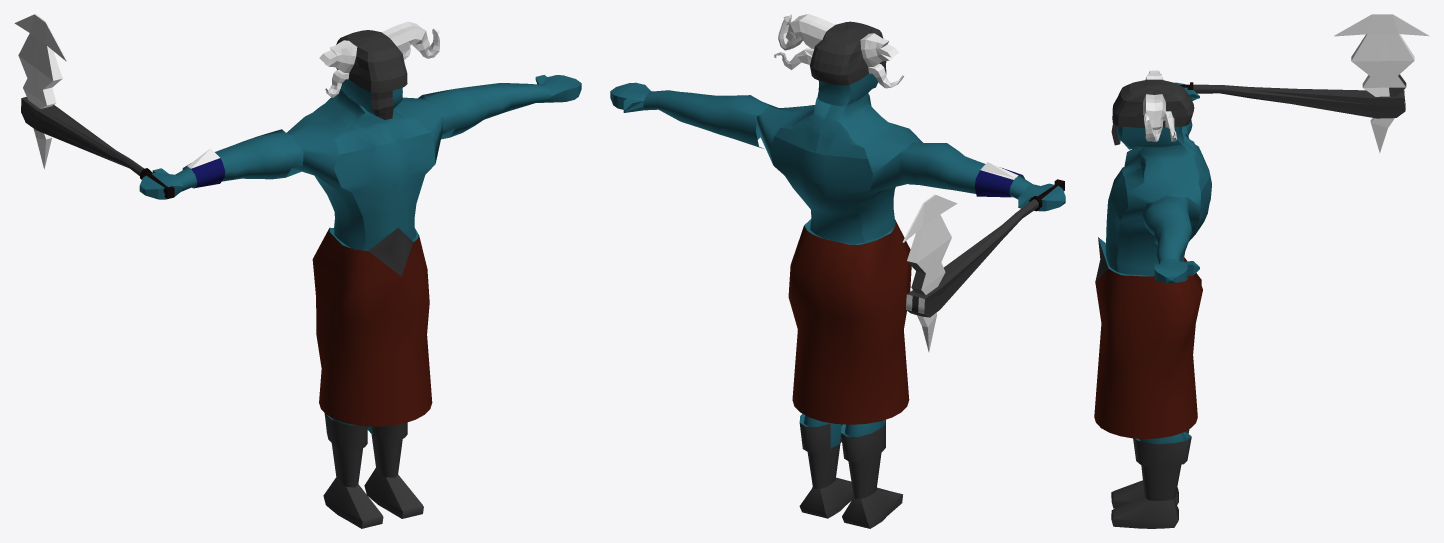
Rendered from boss1.fbx.
The picture shows the model from 3 angles, left to right: view 1: azimuth 30°, elevation 25°; view 2: azimuth 150°, elevation 25°; view 3: azimuth 270°, elevation 25°; orthographic projection. The views are drawn at different scales.
Parts seen in each view (by area): view 1: Box001; view 2: Box001; view 3: Box001.
Boxes of the visible parts, x1,y1,x2,y2 form: Box001: (14,14,581,528); Box001: (610,14,1065,528); Box001: (1094,14,1429,528).
Bounding box in the file's own units: 1162 × 1195 × 842.
